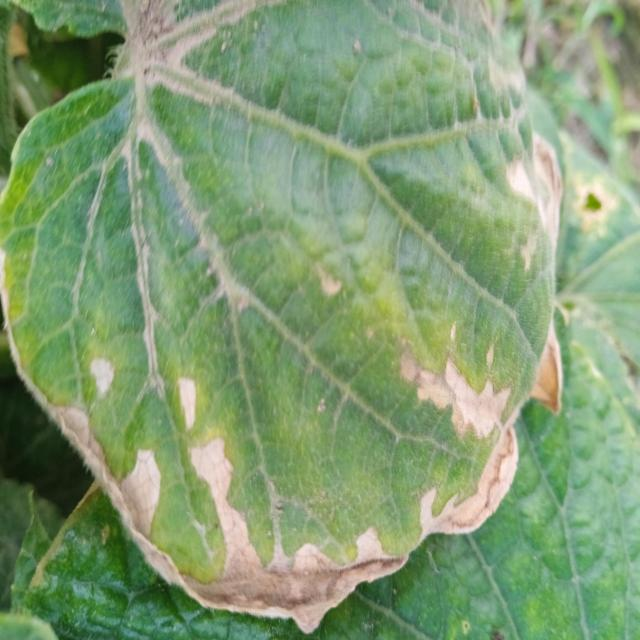cucumber_gummy: (0, 0, 577, 640)
